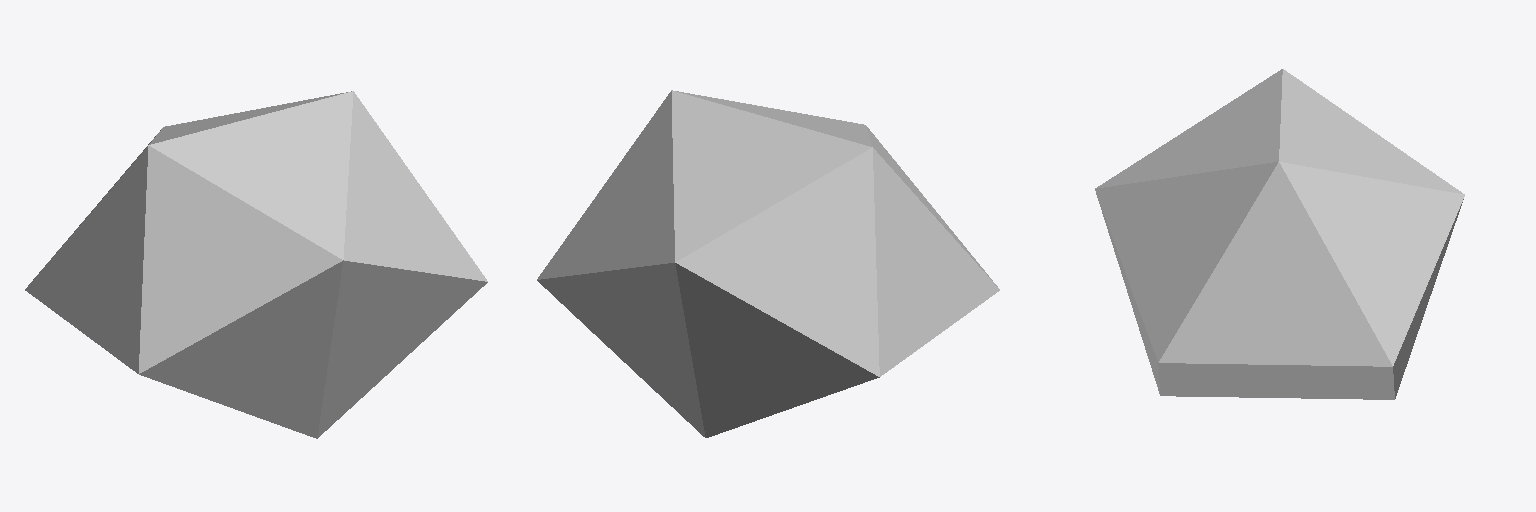
Rendered from SphenoCorona.obj.
3 renders of one model, left to right at view 1: azimuth 30°, elevation 25°; view 2: azimuth 150°, elevation 25°; view 3: azimuth 270°, elevation 25°, orthographic.
Visible parts, largest first — view 1: SphenoCorona; view 2: SphenoCorona; view 3: SphenoCorona.
Part boxes in pixels (left/top/right/bottom): SphenoCorona: left=25, top=91, right=487, bottom=438; SphenoCorona: left=537, top=90, right=999, bottom=437; SphenoCorona: left=1095, top=69, right=1464, bottom=399.
Bounding box in the file's own units: 1.29 × 0.999 × 1.18.